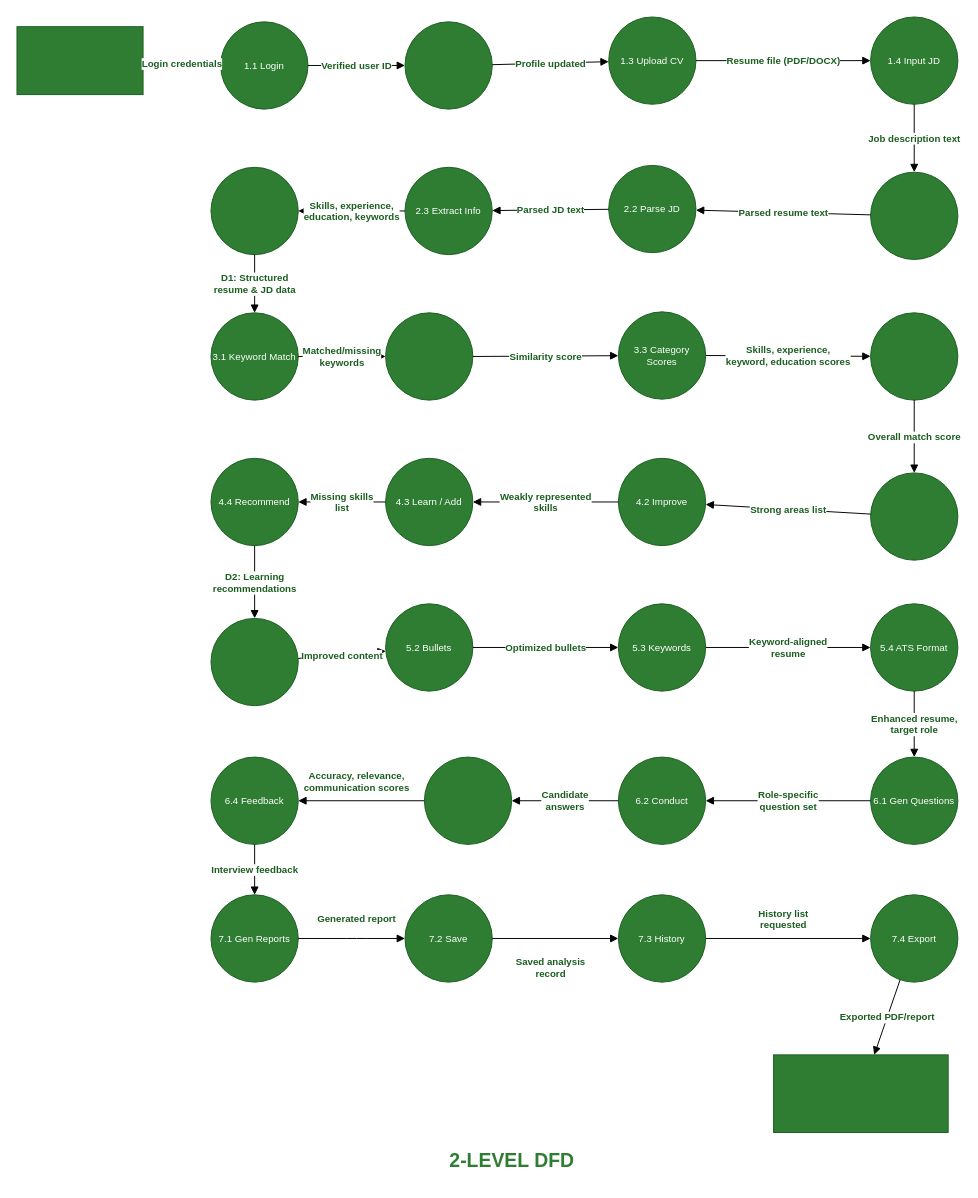
Some shapes in this 978 by 1198 pixel diagram are drawn without their labels. The shapes that lost their labels are listed below. From the top down, each one's centre as x and y in pixels, then its label:
At point 79,60: "Job Seeker".
At point 448,65: "1.2 Profile".
At point 254,210: "2.4 Structure Data".
At point 914,215: "2.1 Parse CV".
At point 429,356: "3.2 Semantic Sim.".
At point 914,356: "3.4 Overall Score".
At point 914,516: "4.1 Strengths".
At point 254,661: "5.1 Content".
At point 467,800: "6.3 Evaluate".
At point 860,1093: "Job Seeker (receives output)".
